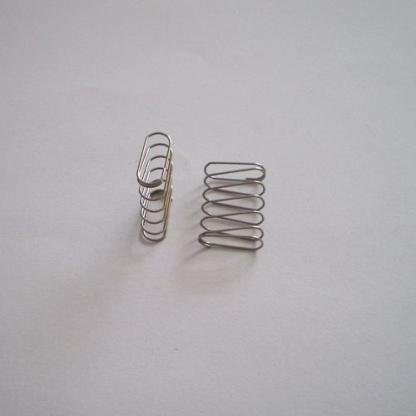FOD: (198, 158, 270, 255), (136, 130, 174, 248)
